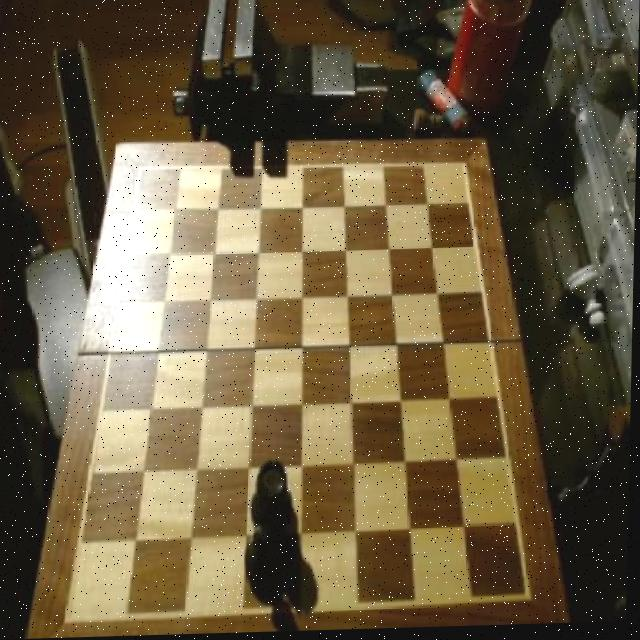black-knight: (242, 529, 287, 589)
black-queen: (252, 462, 298, 538)
